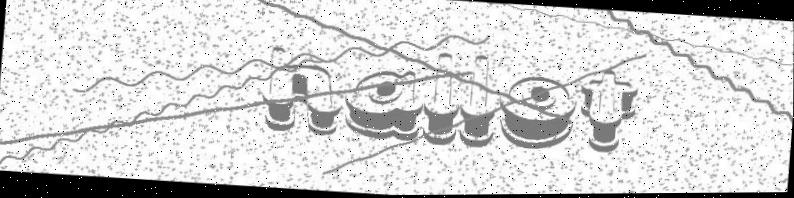a: (343, 64, 425, 143)
h: (261, 41, 349, 138)
l: (456, 53, 501, 154), (421, 50, 465, 147)
o: (496, 71, 580, 156)
t: (575, 65, 642, 160)
